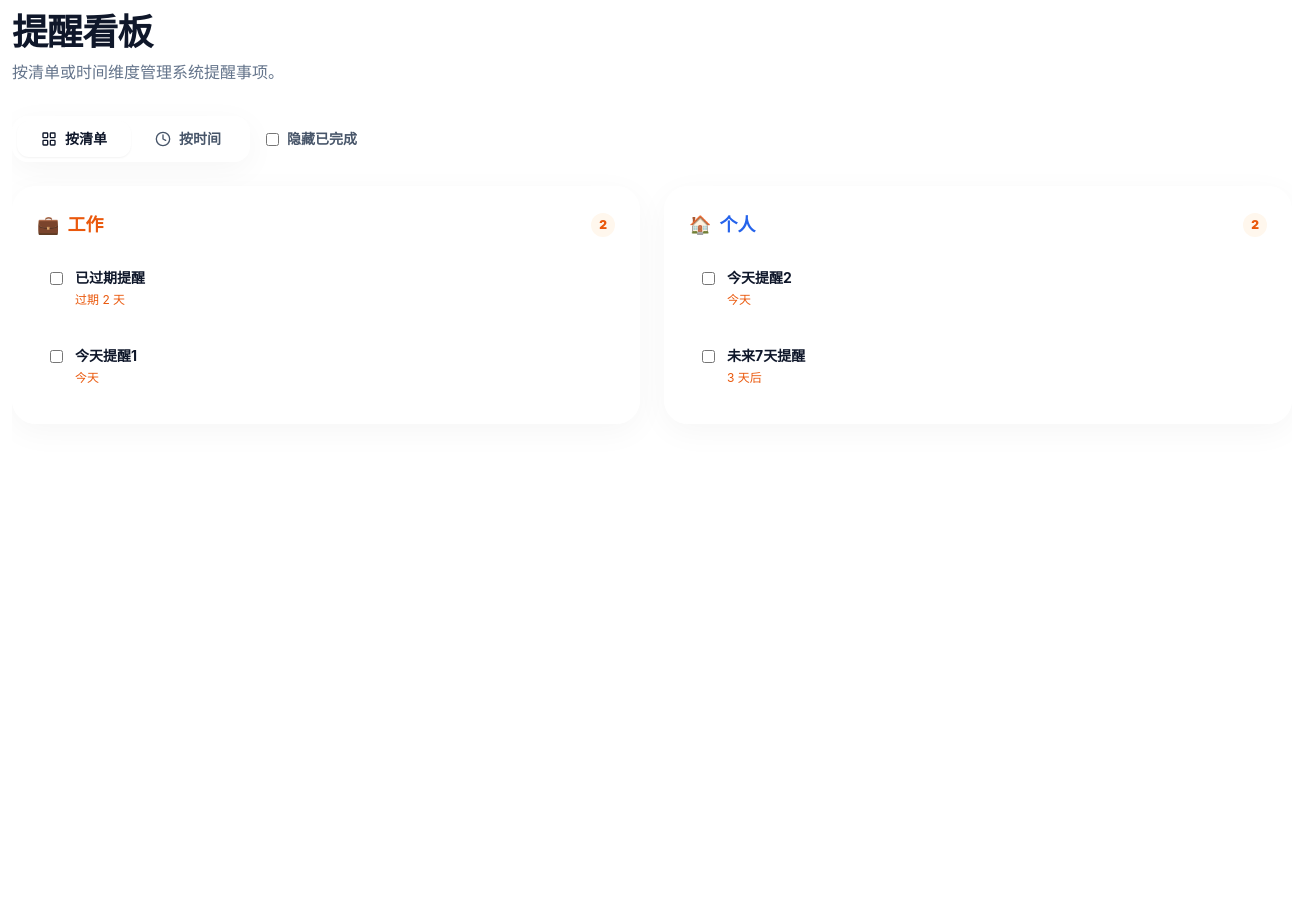
RemindersView › Data Integration › should group reminders by time using groupRemindersByTime
The width and height of the screenshot is (1292, 912).
# 切换到按时间视图
Click the button "按时间".
click(188, 139)  # box [131,121,245,157]
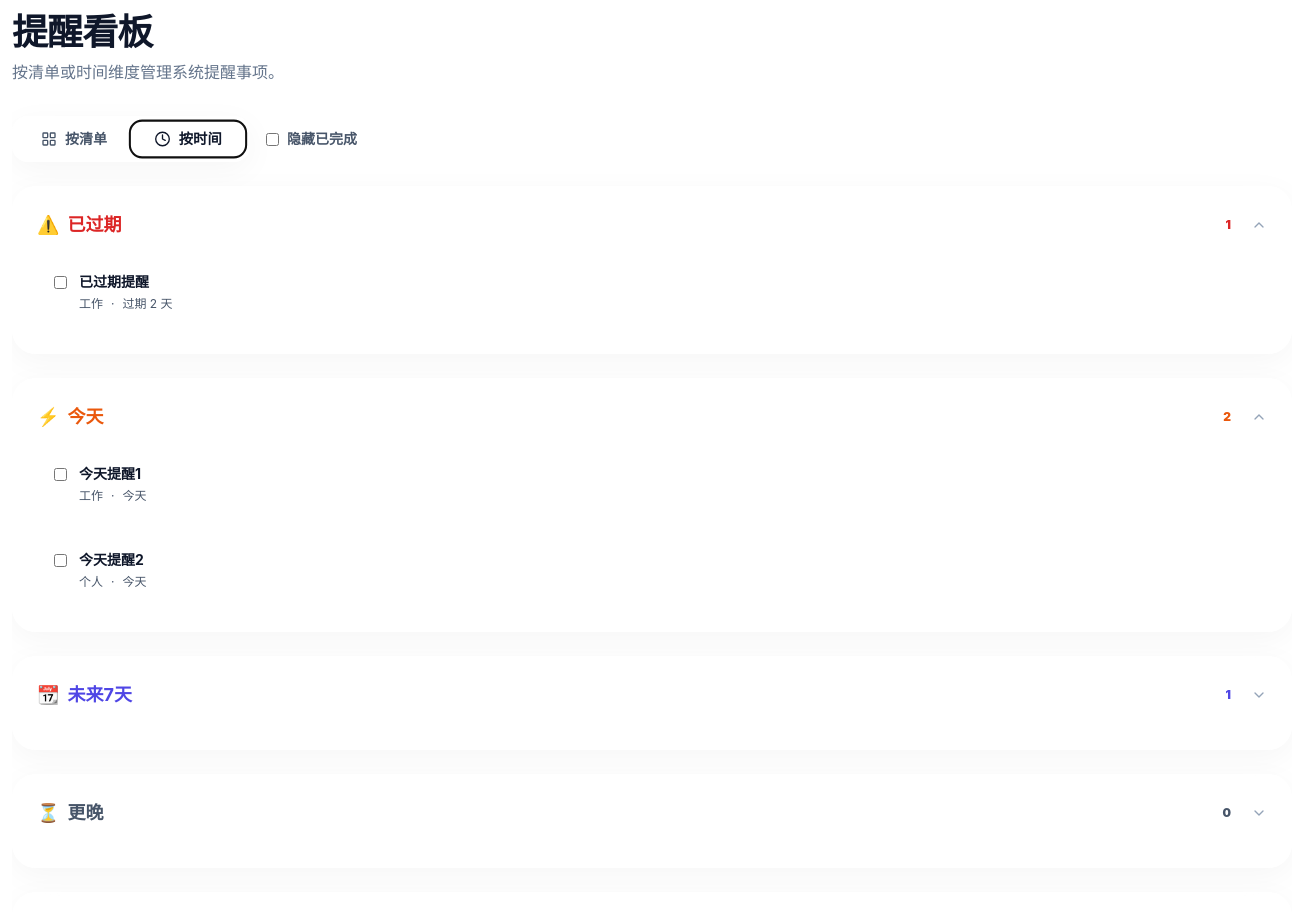
Expected: the text "已过期提醒" is shown, [79,273,149,290]
Now the heading "⚠️ 已过期" is shown, box [37,211,122,239]
Click the button "📆 未来7天 1".
click(100, 694)  # box [37,681,1267,709]
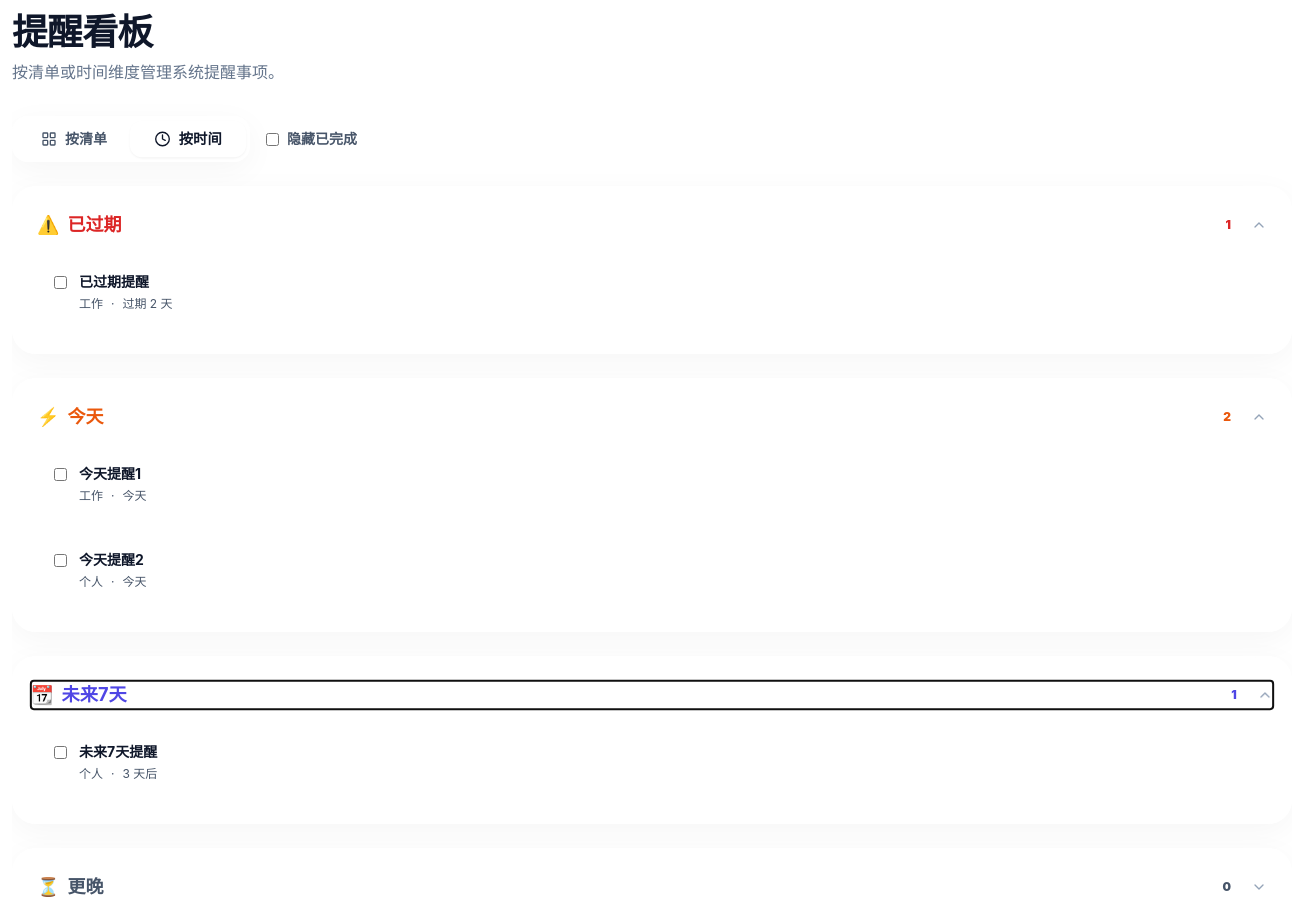
Now the text "未来7天提醒" is shown, box [79,743,157,760]
